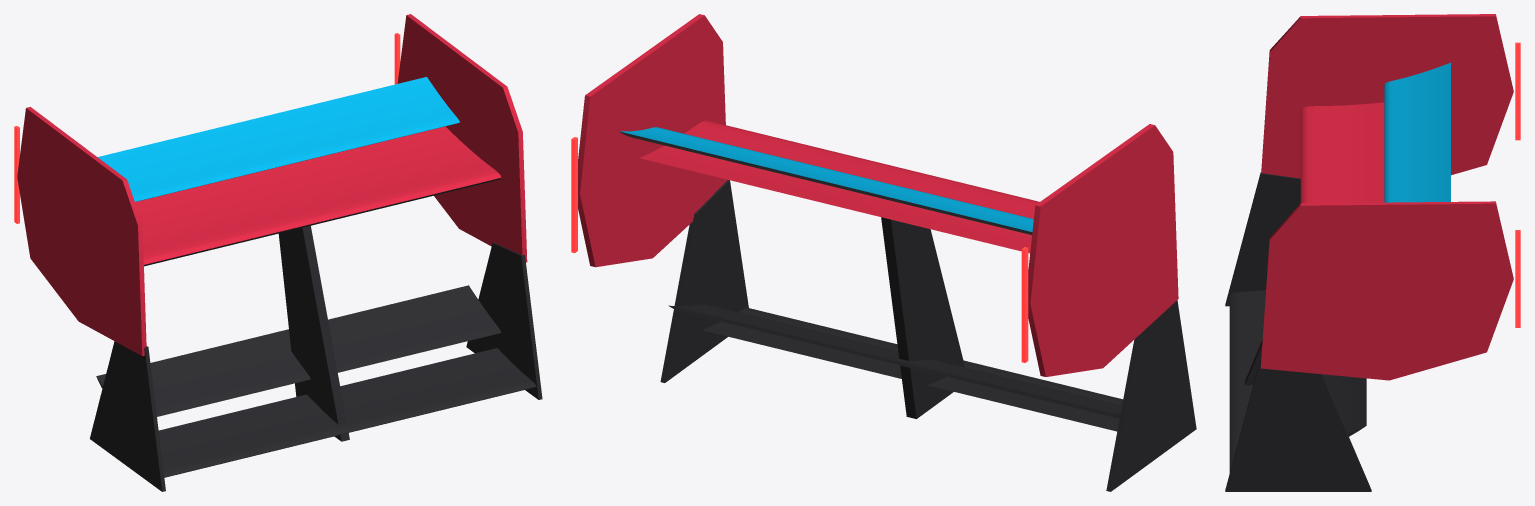
The model's file is lowdf.glb.
The picture shows the model from 3 angles, left to right: view 1: azimuth 30°, elevation 25°; view 2: azimuth 150°, elevation 25°; view 3: azimuth 270°, elevation 25°; orthographic projection. The views are drawn at different scales.
Visible parts, largest first — view 1: RearWing_lowdf, DRSFlap_lowdf; view 2: RearWing_lowdf, DRSFlap_lowdf; view 3: RearWing_lowdf, DRSFlap_lowdf.
Boxes of the visible parts, x1,y1,x2,y2 form: RearWing_lowdf: (14, 14, 542, 491); DRSFlap_lowdf: (97, 77, 459, 201); RearWing_lowdf: (571, 14, 1196, 491); DRSFlap_lowdf: (619, 127, 1033, 234); RearWing_lowdf: (1225, 14, 1520, 491); DRSFlap_lowdf: (1384, 62, 1450, 202).
Bounding box in the file's own units: 1.01 × 0.72 × 0.666.
